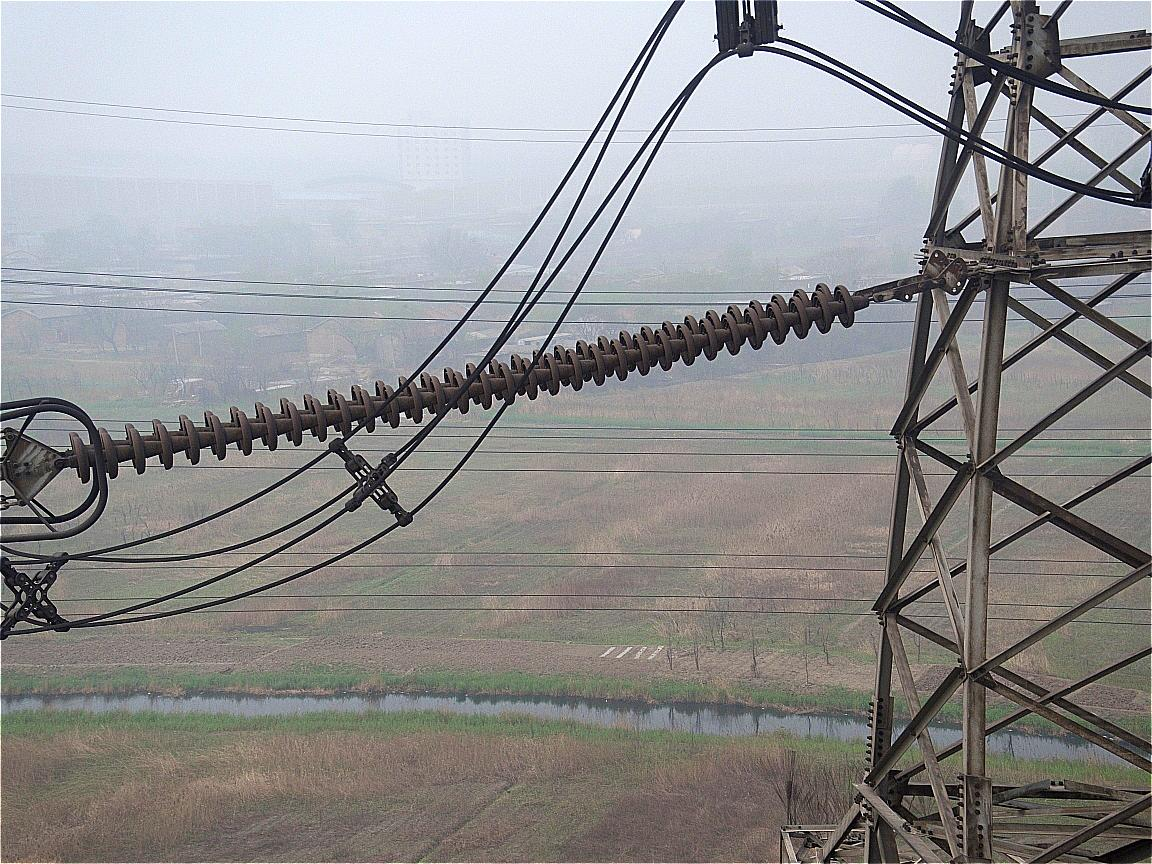insultor1: (67, 282, 856, 485)
